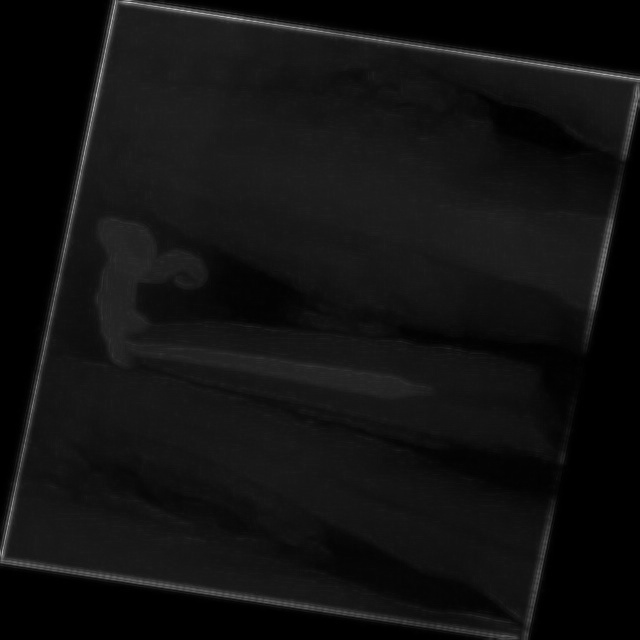Class 1- complete endodontic treatment: (41, 202, 568, 492)
